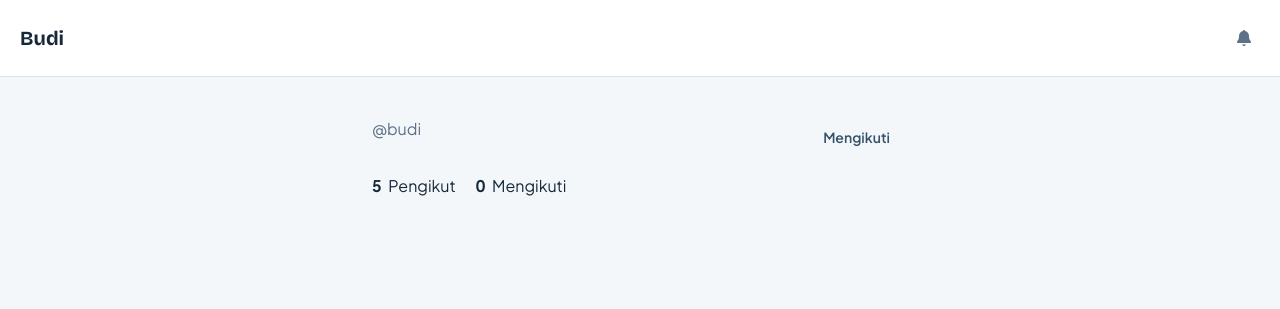
Test: ProfilePage › drops the visible follower count when the follow button is tapped to unfollow
This screenshot has width=1280, height=309.
Expected: the text "5" is shown, [372, 175, 382, 196]
Click the button "Mengikuti": (857, 138) [805, 117, 908, 158]
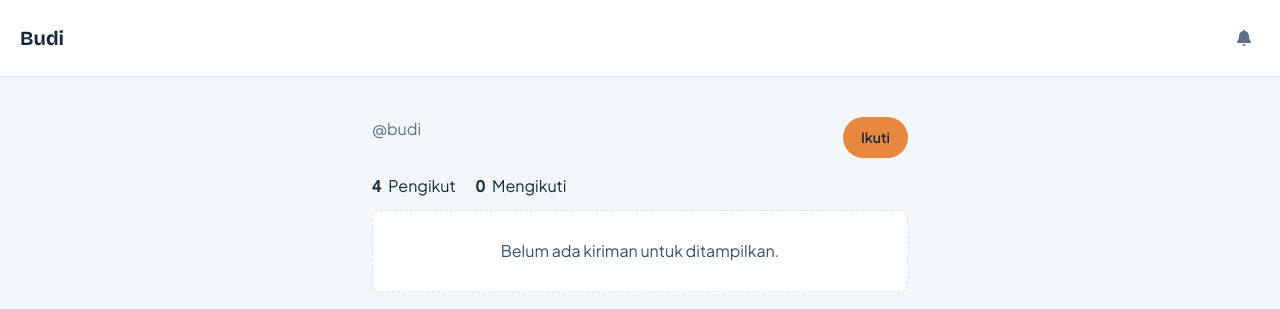
Now the text "4" is shown, box [372, 175, 382, 196]
